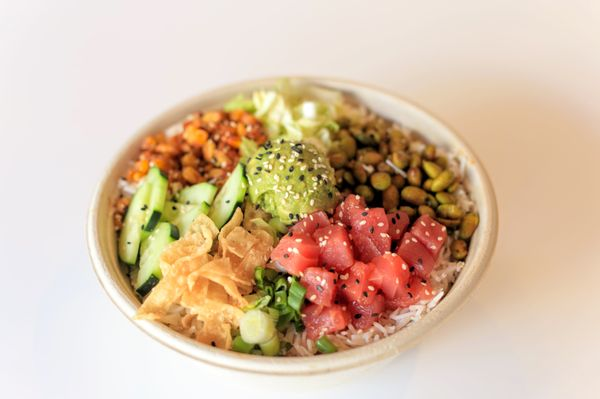curry: (245, 137, 340, 231), (118, 165, 169, 272)
sushi: (99, 71, 499, 382)
